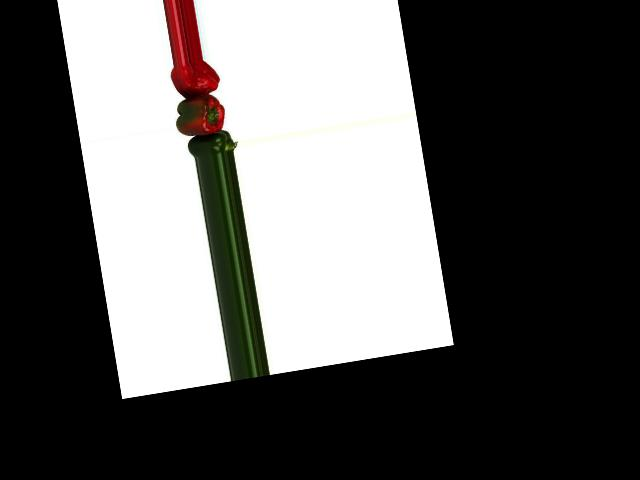bell_pepper: (166, 57, 225, 101)
